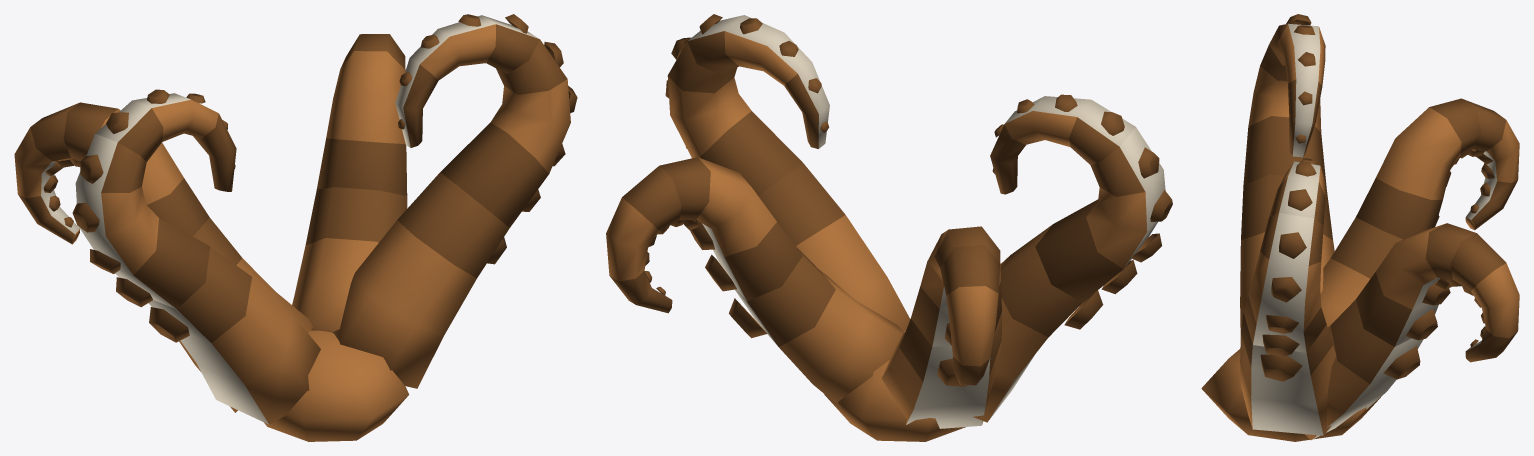
File: octopus-many-arms.glb
The picture shows the model from 3 angles, left to right: view 1: azimuth 30°, elevation 25°; view 2: azimuth 150°, elevation 25°; view 3: azimuth 270°, elevation 25°; orthographic projection. The views are drawn at different scales.
Parts seen in each view (by area): view 1: octopus_gift, wave_arm0_0, wave_arm1_0, wave_arm3_0, wave_arm1_1, wave_arm0_1, wave_arm2_0, wave_arm2_1; view 2: octopus_gift, wave_arm0_0, wave_arm3_0, wave_arm1_0, wave_arm1_1, wave_arm0_1, wave_arm3_1, wave_arm2_1, wave_arm2_0; view 3: octopus_gift, wave_arm2_0, wave_arm1_0, wave_arm3_0, wave_arm0_0, wave_arm3_1, wave_arm0_1, wave_arm2_1, wave_arm1_1.
Part boxes in pixels (x1,y1,x2,y2): octopus_gift: (148, 172, 509, 441); wave_arm0_0: (72, 134, 210, 309); wave_arm1_0: (440, 39, 577, 227); wave_arm3_0: (317, 34, 407, 195); wave_arm1_1: (395, 14, 539, 147); wave_arm0_1: (95, 89, 236, 191); wave_arm2_0: (63, 102, 209, 236); wave_arm2_1: (14, 103, 79, 244); octopus_gift: (729, 163, 1103, 441); wave_arm0_0: (1035, 127, 1172, 302); wave_arm3_0: (659, 157, 802, 301); wave_arm1_0: (665, 37, 802, 195); wave_arm1_1: (687, 14, 829, 148); wave_arm0_1: (990, 94, 1135, 194); wave_arm3_1: (606, 166, 681, 313); wave_arm2_1: (940, 245, 999, 385); wave_arm2_0: (911, 226, 1001, 346); octopus_gift: (1201, 174, 1423, 441); wave_arm2_0: (1356, 98, 1481, 239); wave_arm1_0: (1243, 213, 1326, 357); wave_arm3_0: (1356, 223, 1476, 346); wave_arm0_0: (1243, 45, 1326, 187); wave_arm3_1: (1450, 233, 1519, 362); wave_arm0_1: (1269, 14, 1325, 157); wave_arm2_1: (1463, 99, 1519, 230); wave_arm1_1: (1269, 158, 1325, 225).
Bounding box in the file's own units: 0.4999 × 0.356 × 0.3052.
